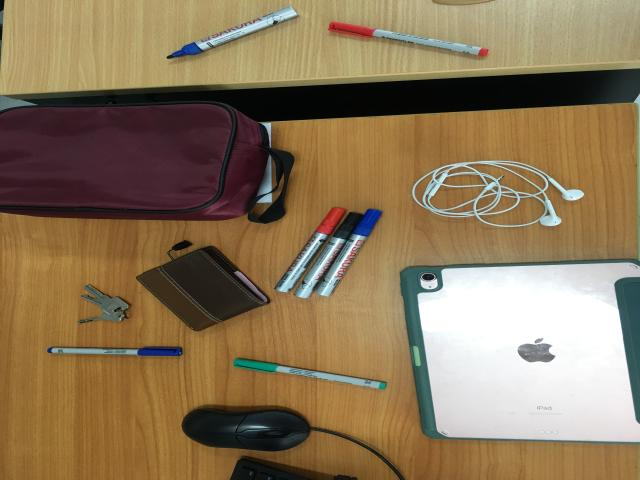Keys: (77, 285, 130, 325)
Mouse: (181, 406, 314, 454)
Pen: (279, 209, 382, 299), (167, 8, 299, 61), (329, 22, 490, 58), (232, 359, 388, 392), (47, 347, 184, 360)
Wallet: (135, 247, 269, 333)
wire: (413, 162, 586, 227)
